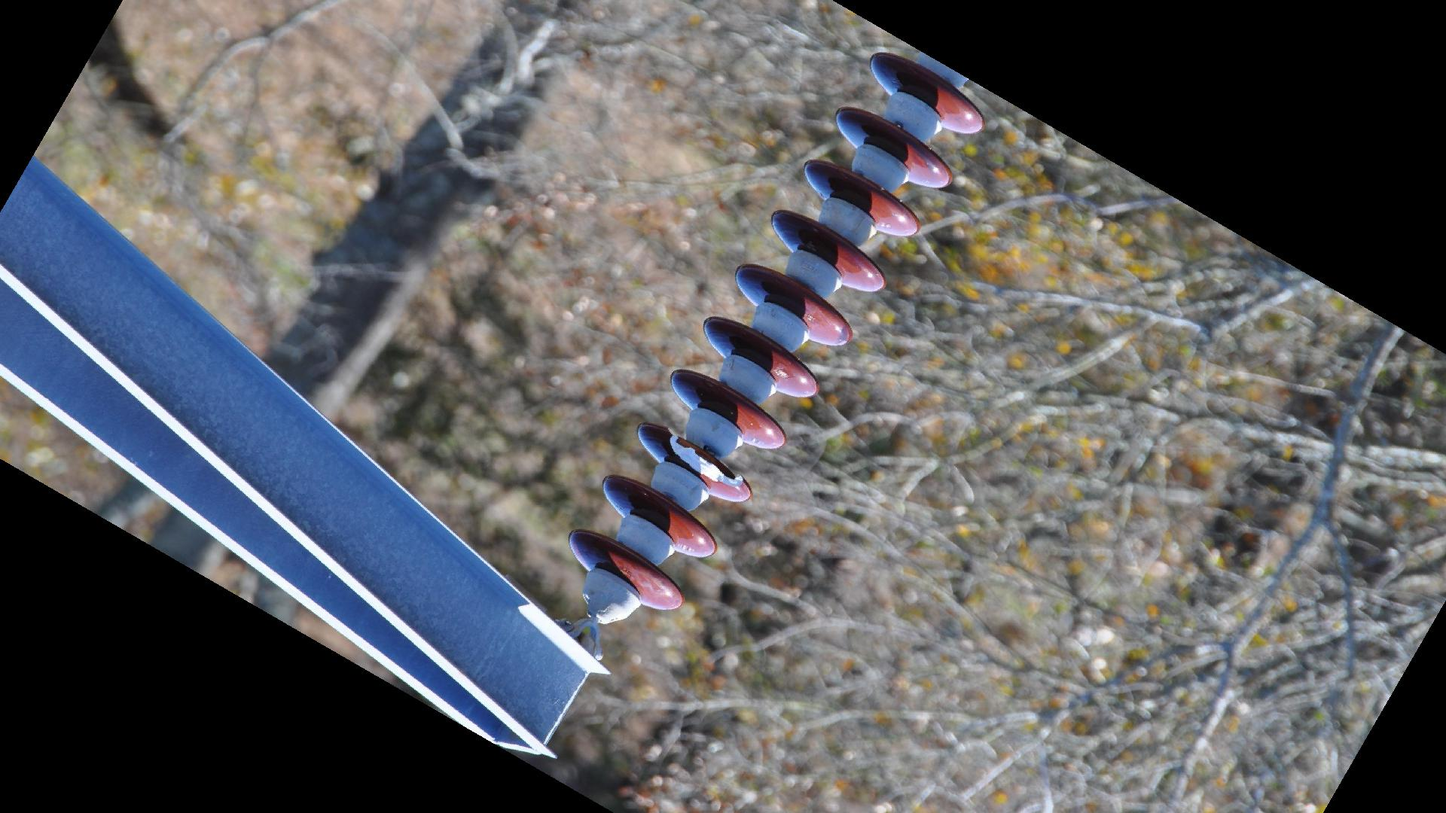insulator: (563, 45, 994, 620)
insulator_breakage: (660, 422, 750, 495)
